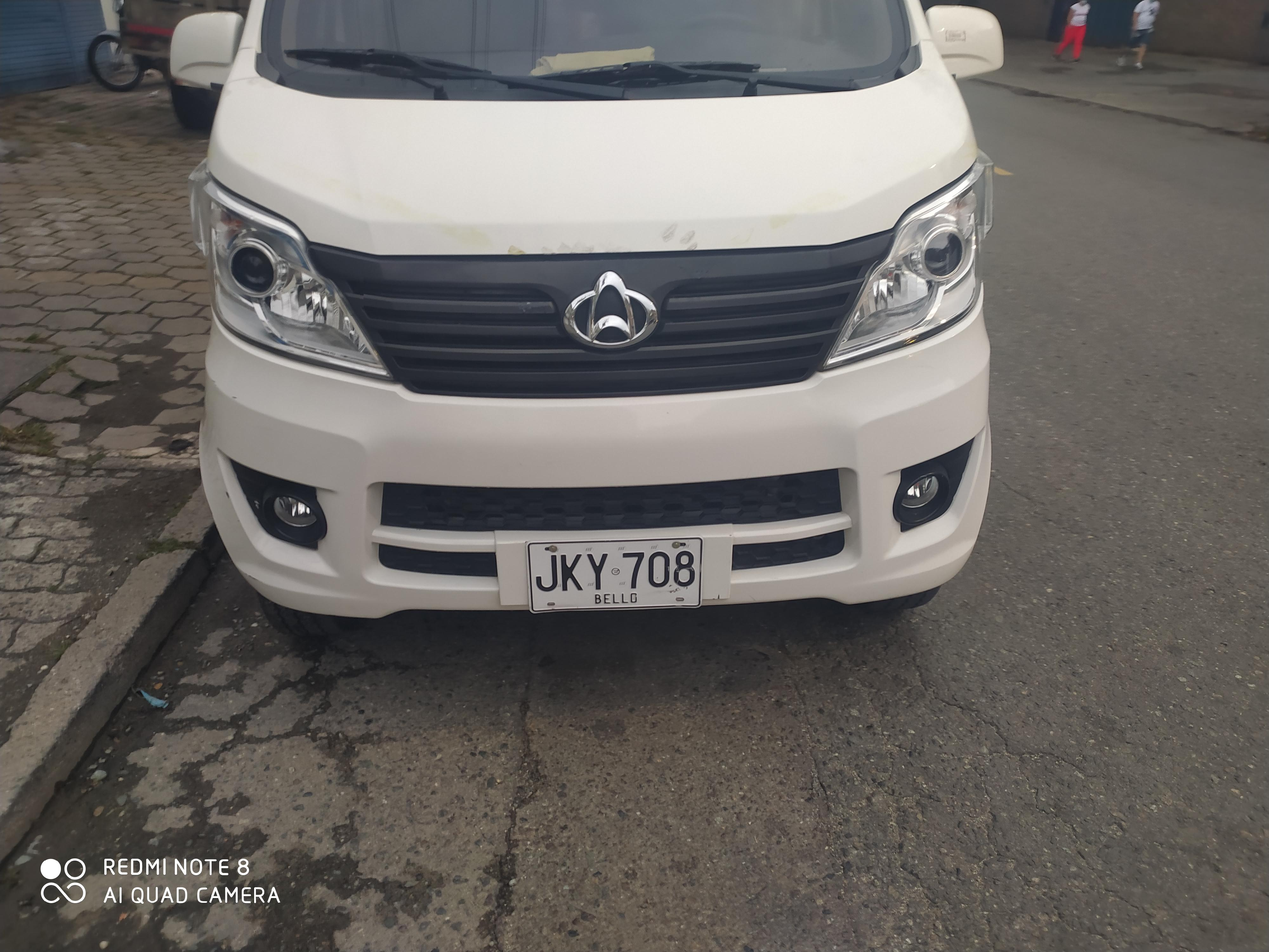placa: (514, 531, 710, 617)
